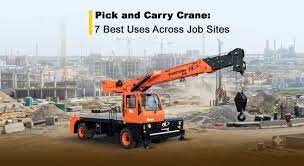crane: (61, 39, 252, 150)
